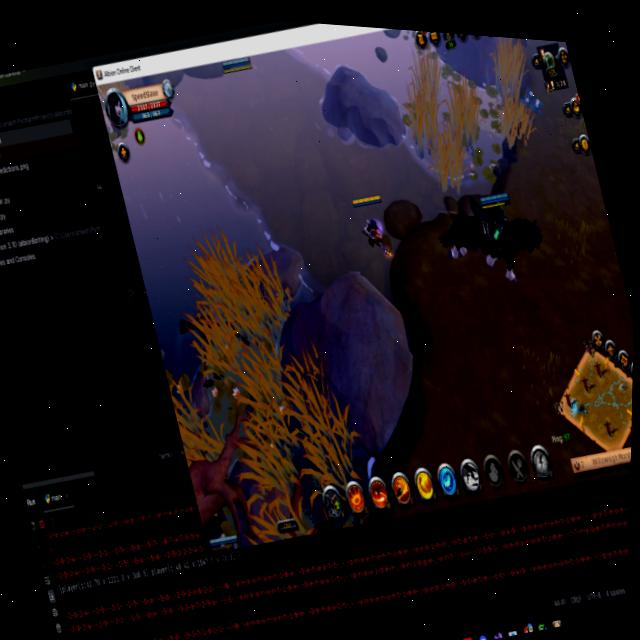hide: (511, 75, 551, 134)
red: (425, 170, 557, 300), (342, 182, 403, 270), (205, 522, 243, 558), (217, 52, 258, 81)
